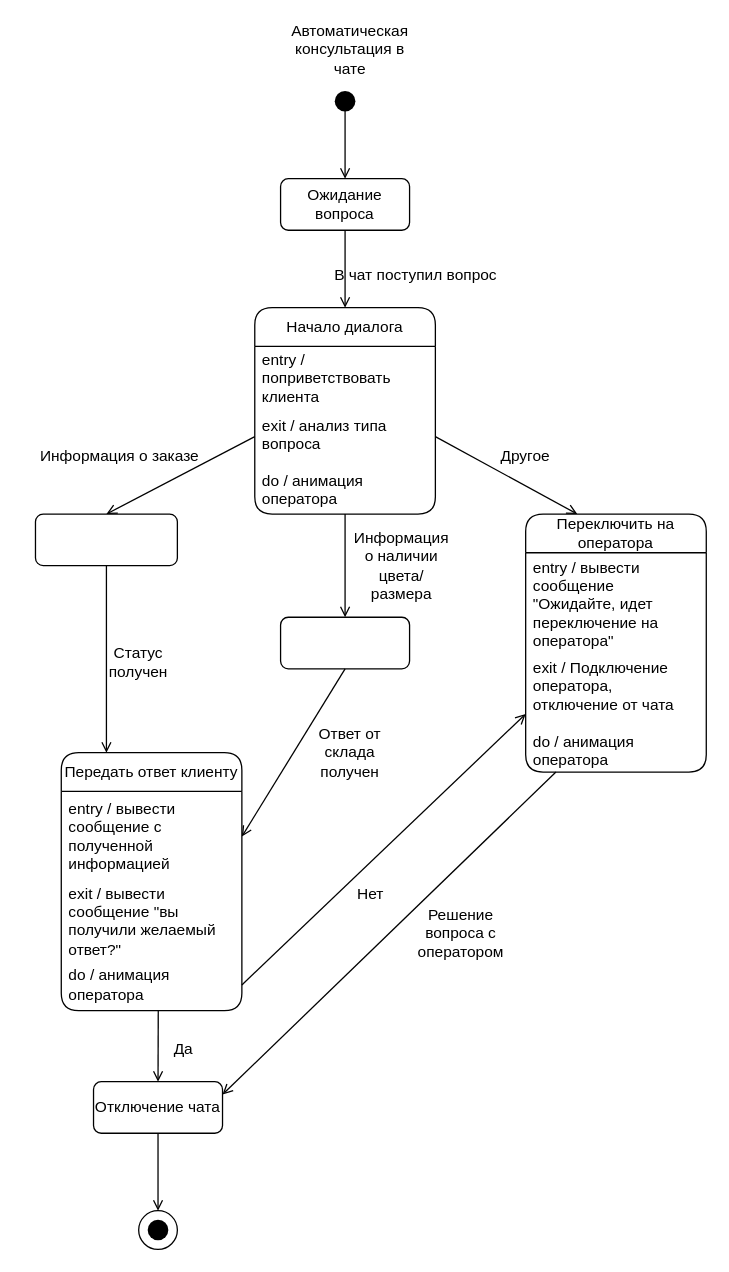
This 729x1272 diagram has some shape labels left out. The shapes that lost their labels are listed below. From the top down, each one's box as (x1, y1, x2, y2) in pixels, then its label:
(34, 513, 177, 566): Проверить статус заказа в базе
(279, 616, 410, 669): Направить вопрос складу
